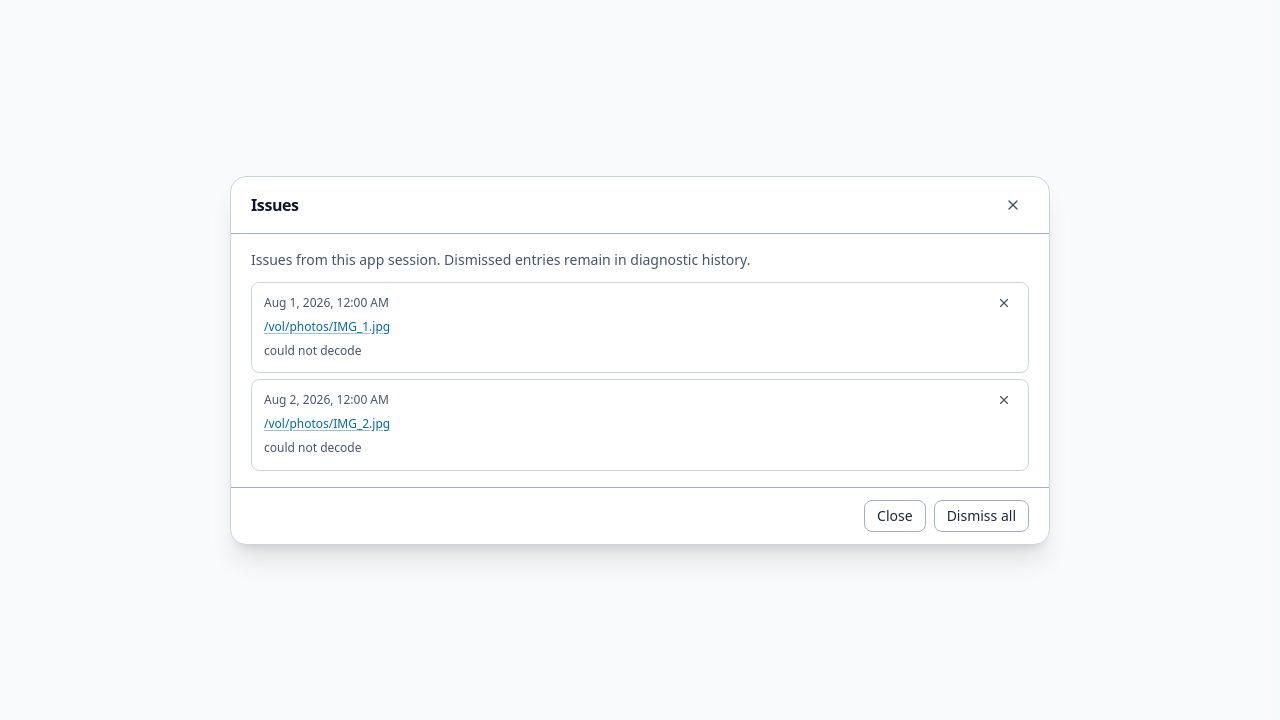
the issues modal › dismisses one row through the command and reloads
What coordinates should you click on to do the following:
click the button named "Dismiss" in the row of "Aug 1, 2026, 12:00 AM"
I would click on:
 (1004, 302)
Its box is [992,290,1016,314].
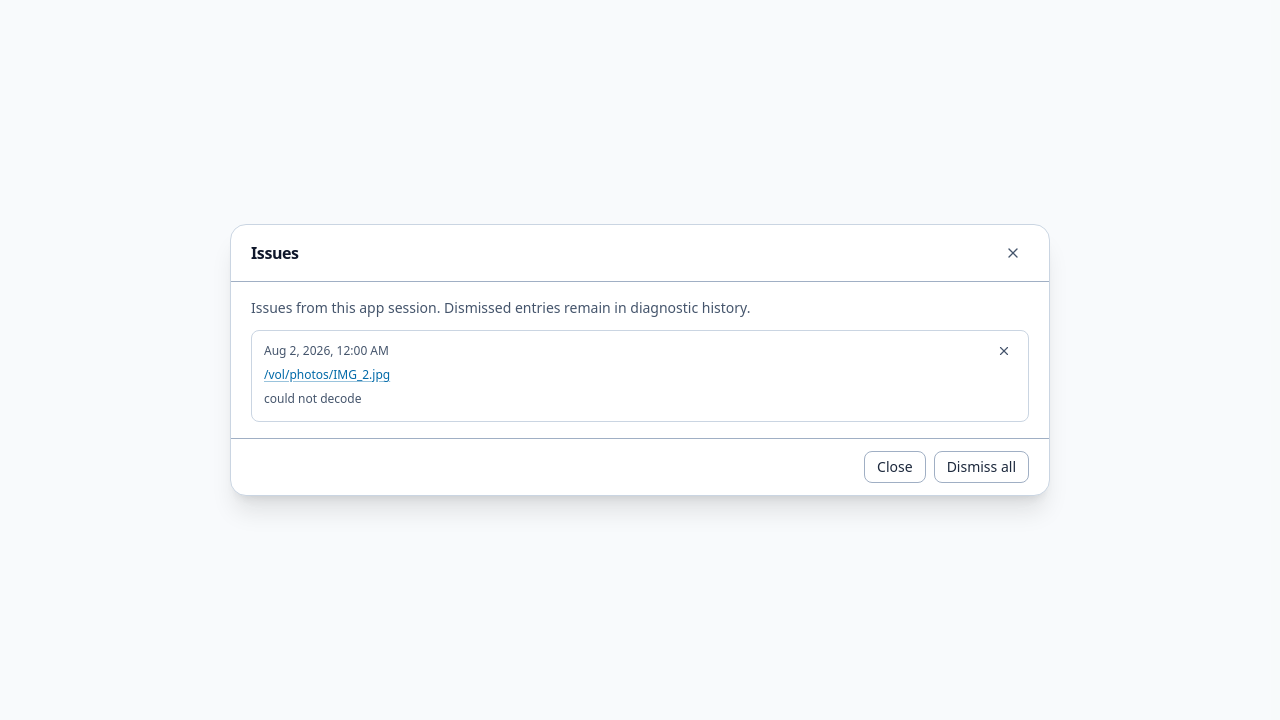
Expected: the number of list items is 1, [251,330,1029,422]
